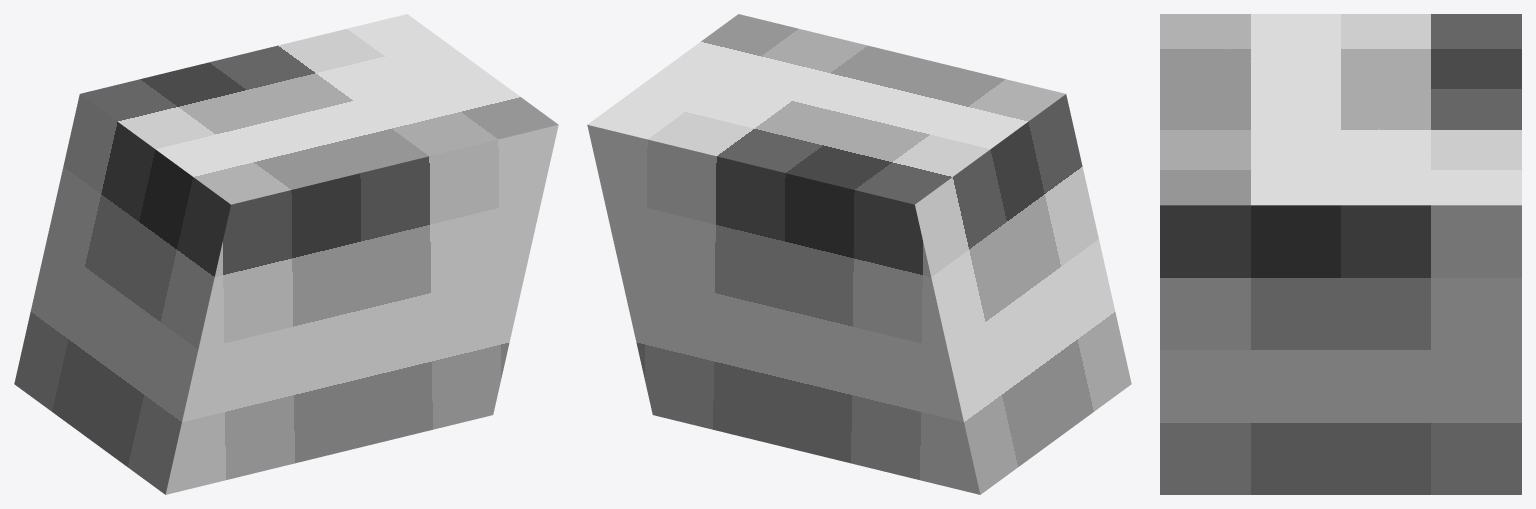
The model's file is Dot.dae.
3 views of the same model, side by side, from view 1: azimuth 30°, elevation 25°; view 2: azimuth 150°, elevation 25°; view 3: azimuth 270°, elevation 25° (orthographic). The views are drawn at different scales.
Parts seen in each view (by area): view 1: Mesh0; view 2: Mesh0; view 3: Mesh0.
Boxes of the visible parts, bbox=[...] form: Mesh0: bbox=[14, 14, 558, 494]; Mesh0: bbox=[587, 14, 1131, 494]; Mesh0: bbox=[1160, 14, 1521, 494].
Bounding box in the file's own units: 30 × 20 × 20.
Materials: 1 (1 with a texture image).
